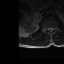CCS_normal: (49, 26, 52, 34)
LFS_normal: (54, 26, 55, 31)
LLS_normal: (51, 26, 54, 32)
RFS_normal: (46, 26, 48, 31)
RLS_normal: (47, 26, 50, 32)
